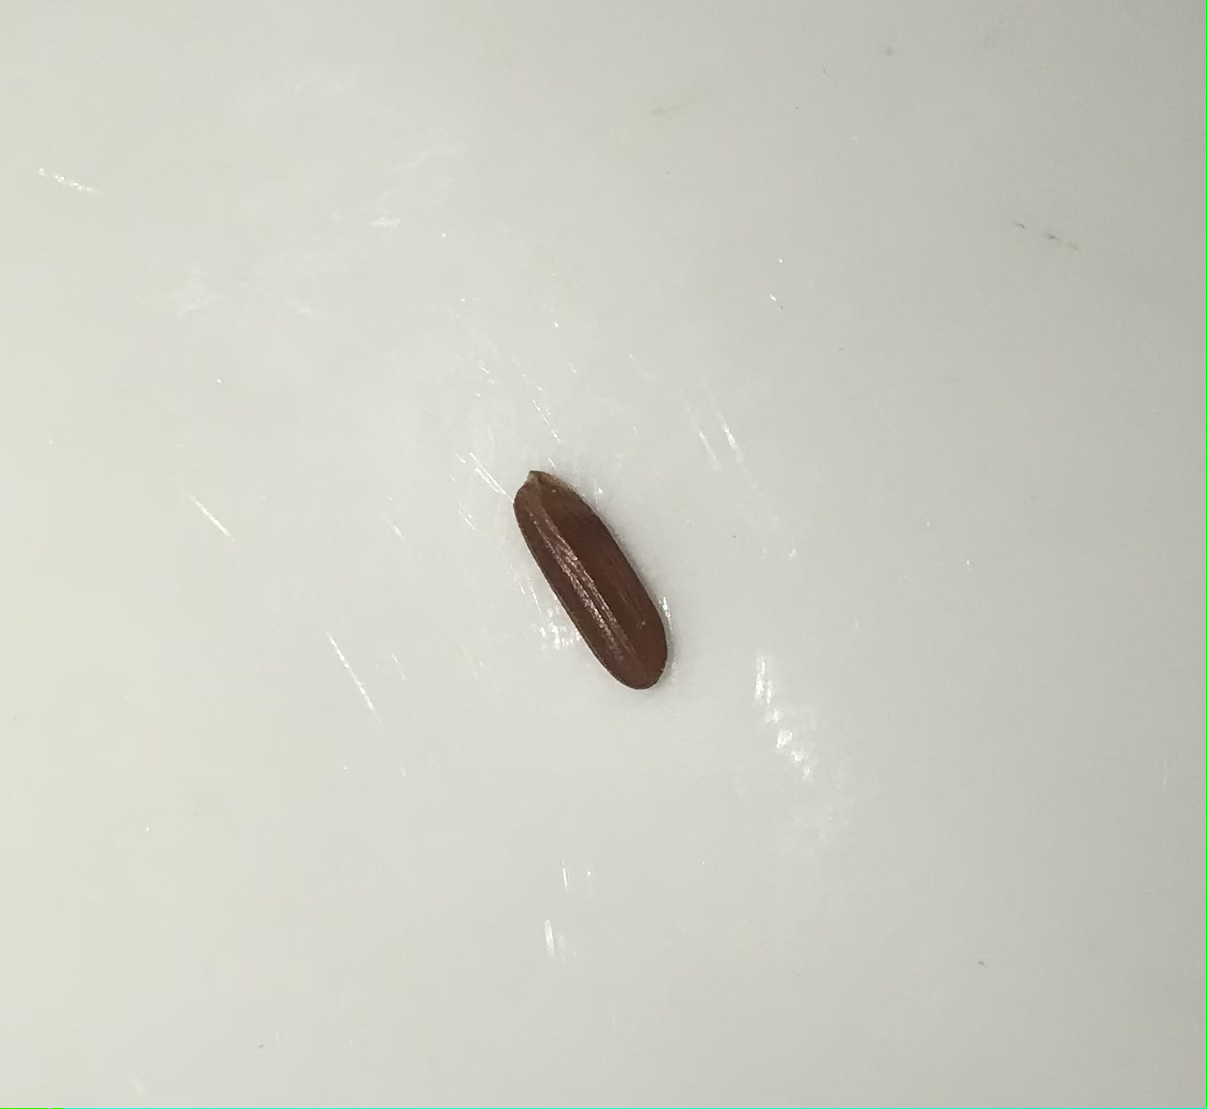Gao Lut Do: (493, 450, 694, 716)
